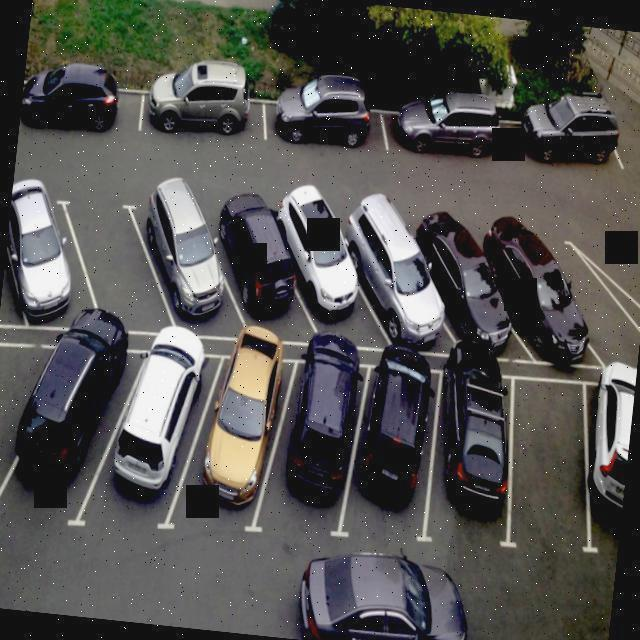space-empty: (491, 377, 600, 555), (539, 213, 640, 374), (64, 189, 167, 341)
space-occupied: (239, 341, 378, 549), (87, 340, 225, 537), (173, 342, 303, 546), (18, 325, 155, 517), (338, 351, 442, 545), (415, 367, 518, 546), (265, 184, 362, 344), (344, 197, 447, 346), (479, 220, 576, 377), (134, 187, 231, 331), (412, 206, 502, 361), (208, 188, 295, 336), (0, 181, 83, 324), (572, 376, 636, 556), (18, 76, 147, 152), (260, 88, 387, 163), (140, 81, 268, 155), (502, 111, 622, 182), (386, 96, 502, 166)
